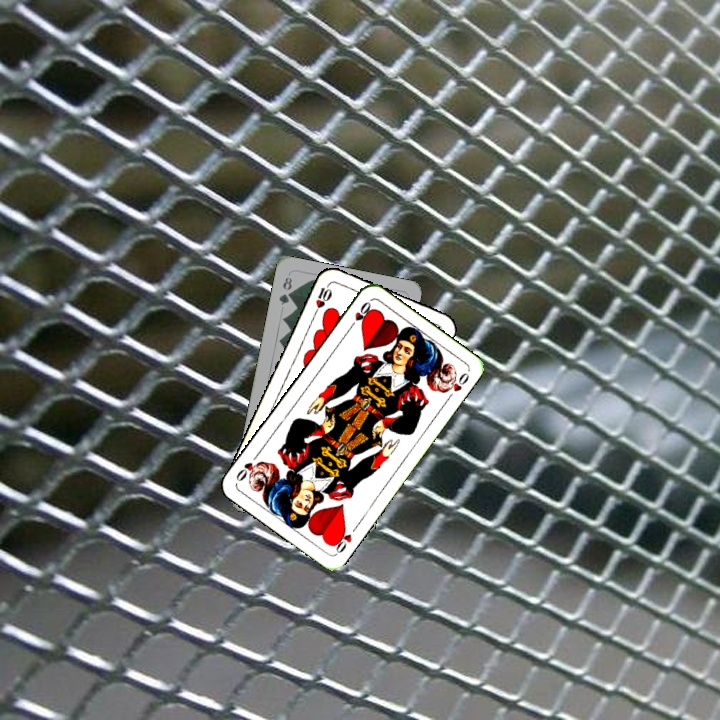G8: (275, 273, 295, 308)
H10: (310, 278, 335, 317)
HO: (328, 521, 361, 556), (345, 298, 374, 332)
